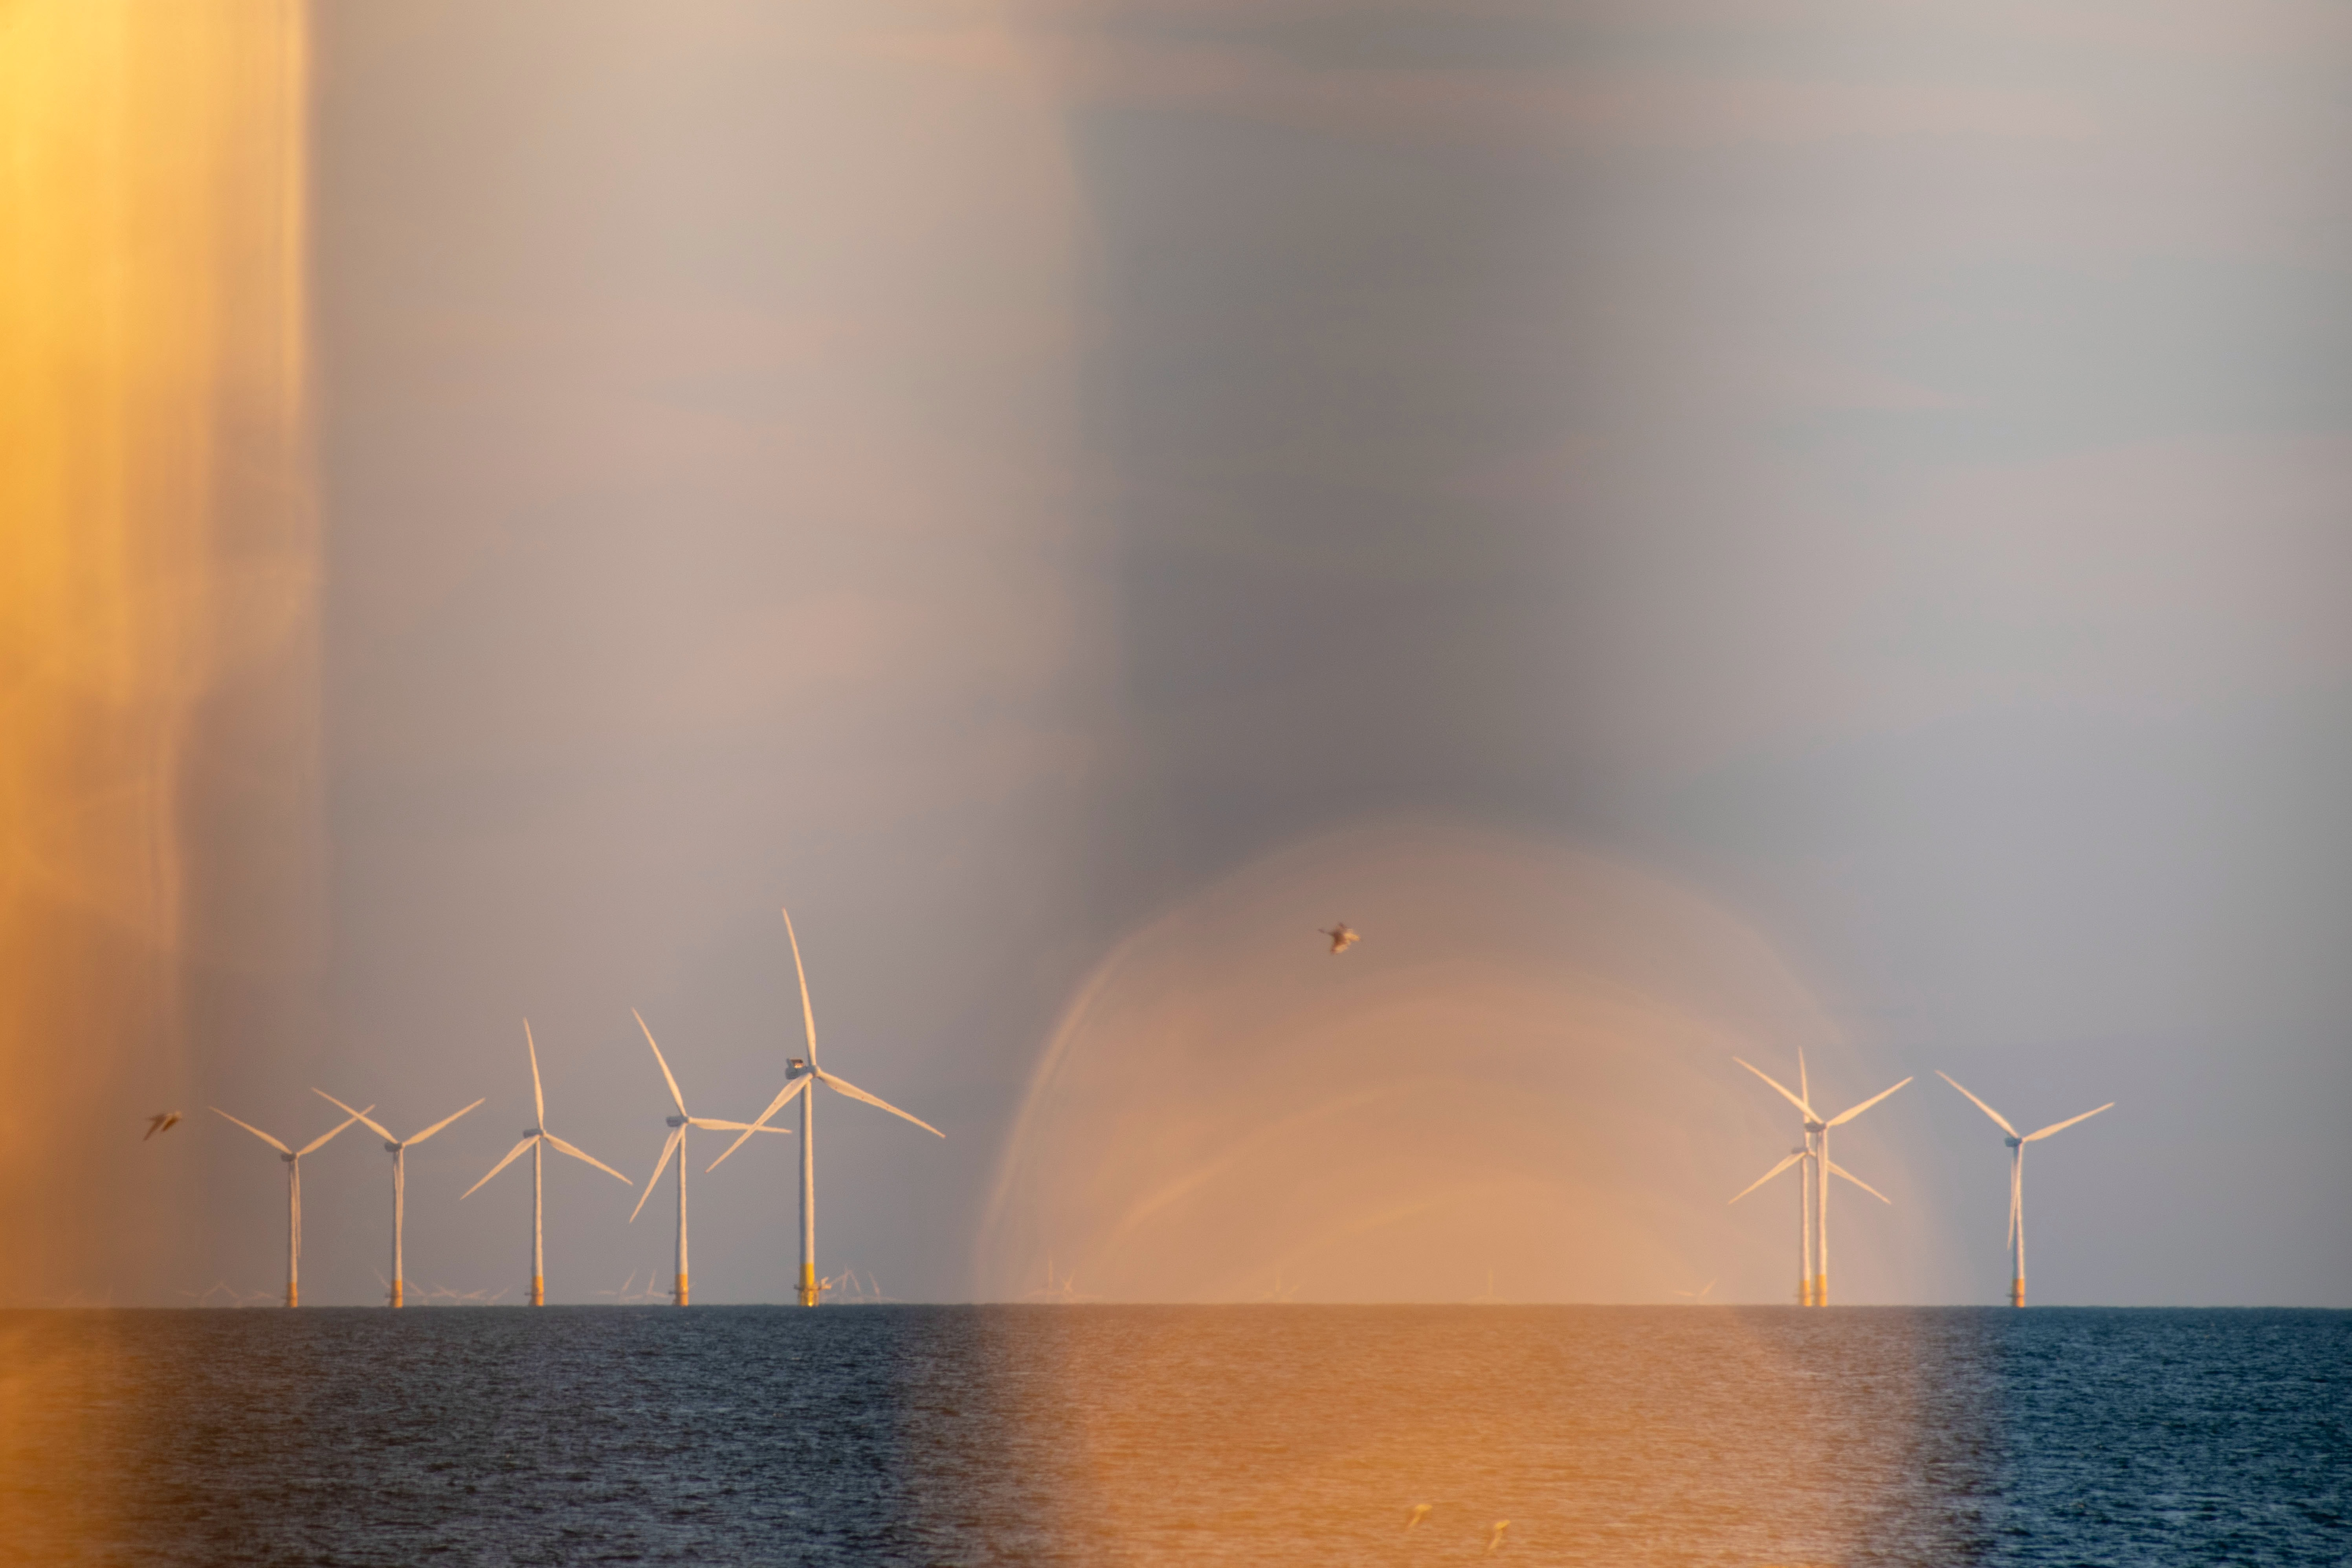working: (724, 908, 948, 1160), (464, 997, 632, 1272), (1930, 1057, 2121, 1251)
